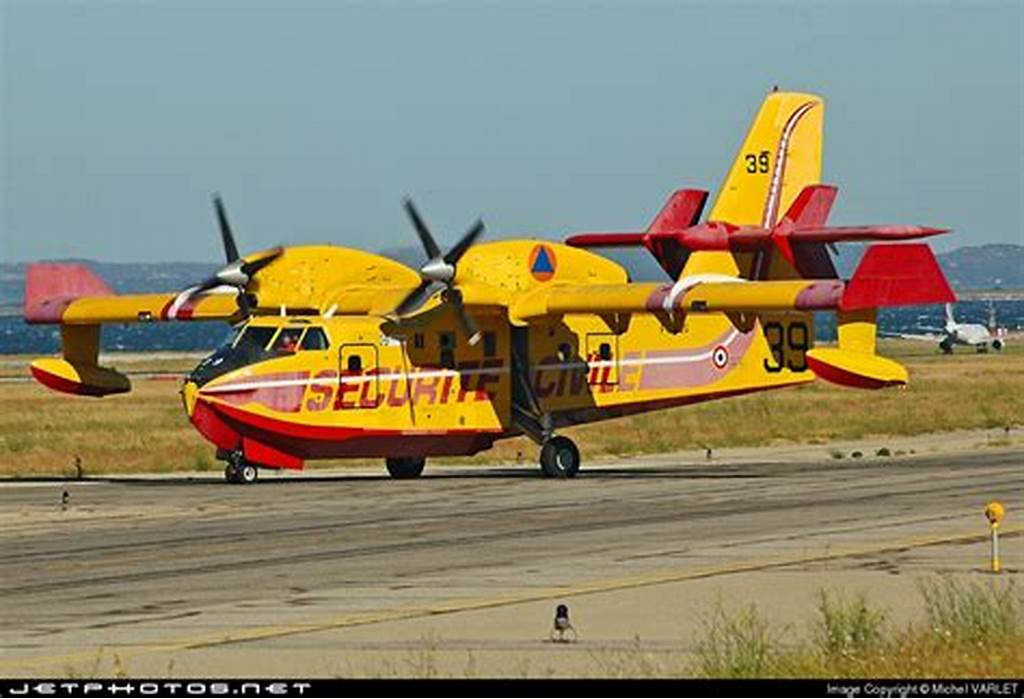Aeronef_de_service: (18, 76, 985, 491)
